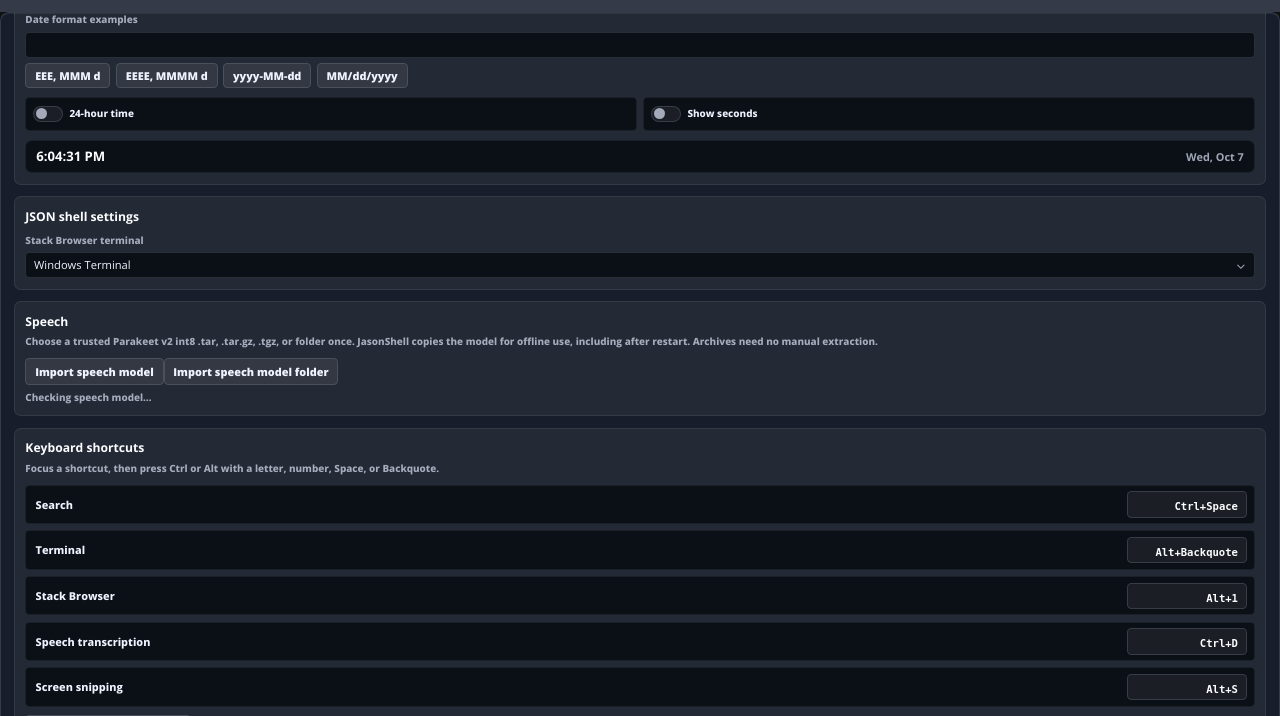
Scenario: Settings speech model import acceptance (mocked native IPC) › ignores stale initial missing response after successful import
(page scrolled)
Check: the message shows "Checking", box [25,390,152,404]
Click the button "Import speech model" at (94, 372), box [25,358,164,385]
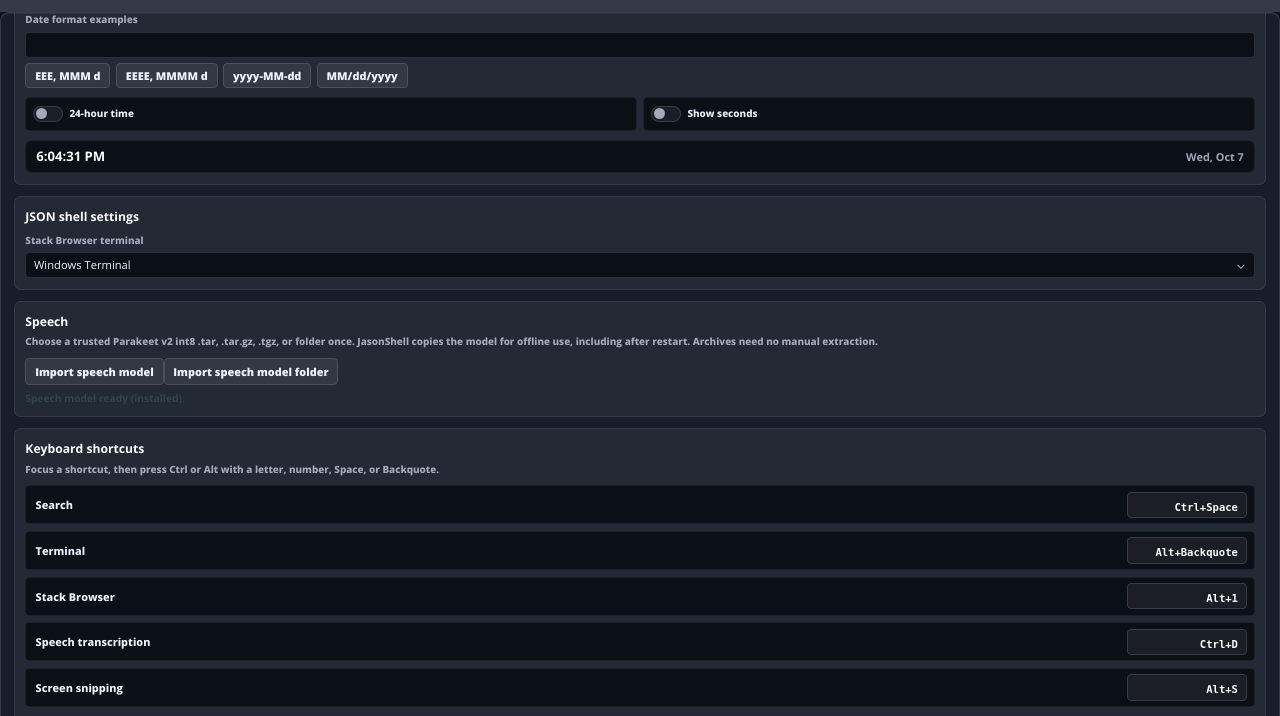
Check: the message shows "ready (installed)", box [25,391,185,405]
